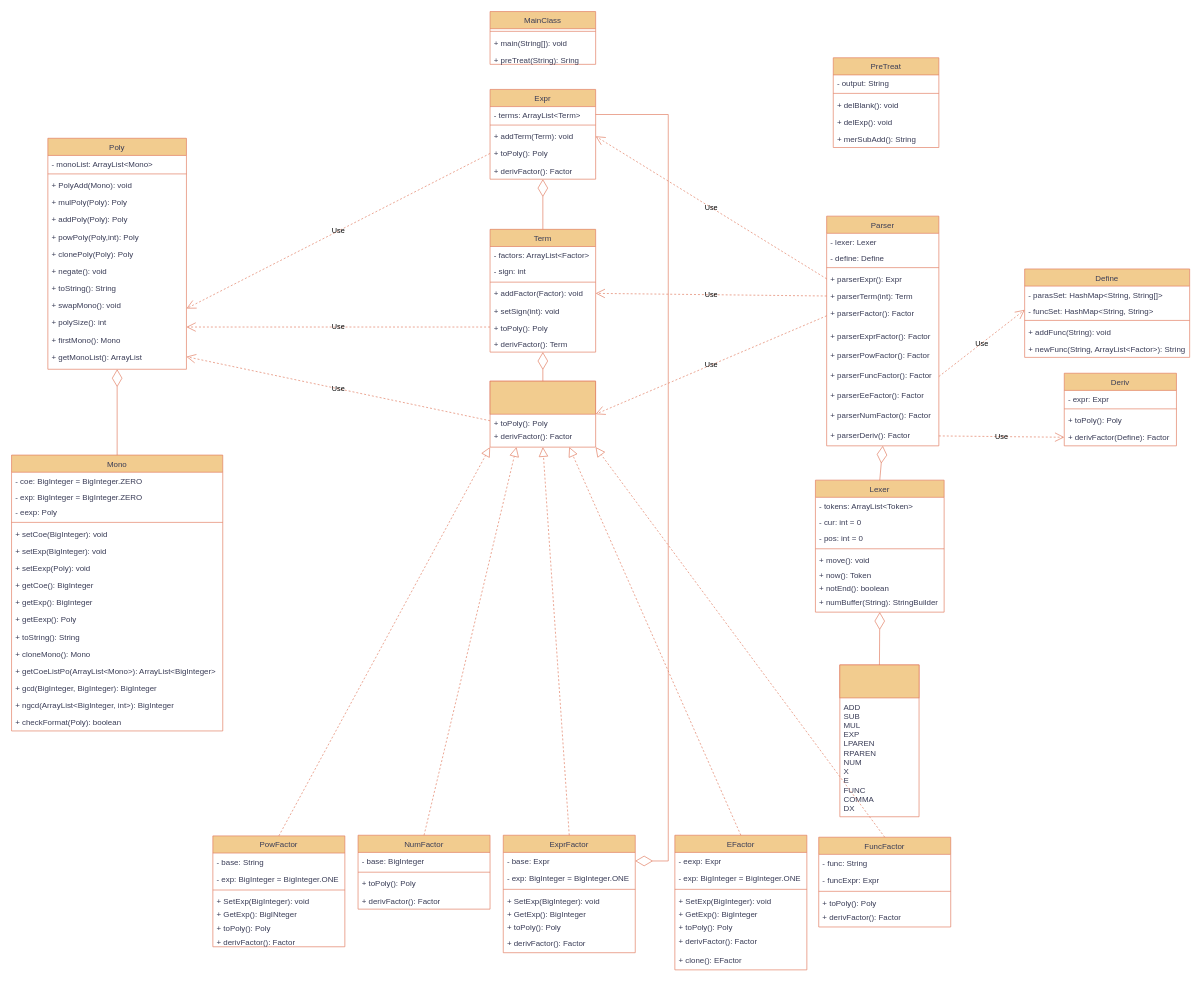
This 1201x983 diagram has some shape labels left out. The centre of each missing label's shape, as x and y in pixels:
"«enumeration» Token" belongs at (879,681).
"«interface» Factor" belongs at (542,397).
